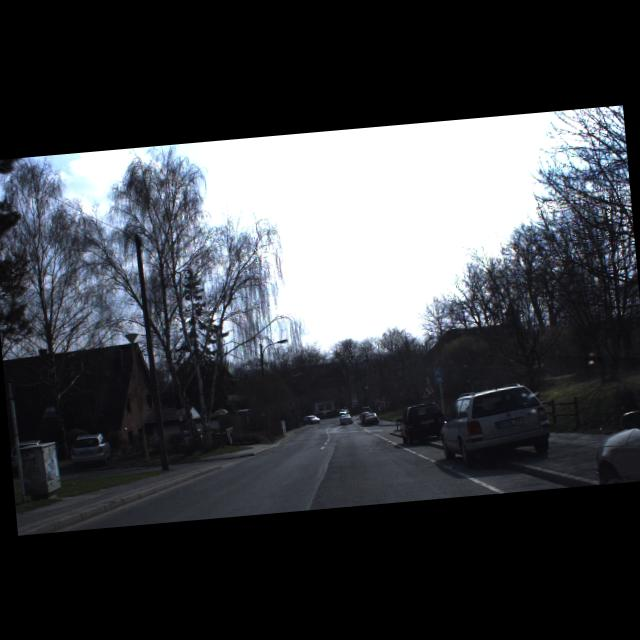danger: (418, 382, 437, 401)
